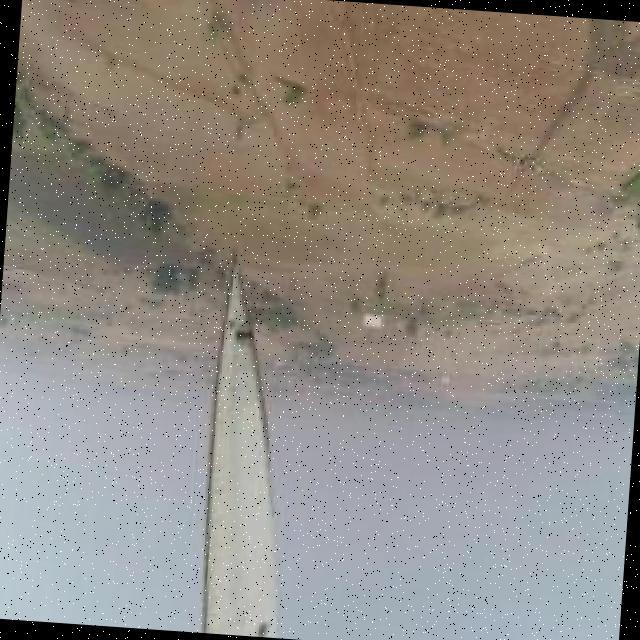Dirt: (198, 262, 283, 640)
Pin Hole: (225, 314, 253, 343), (257, 619, 271, 639)
